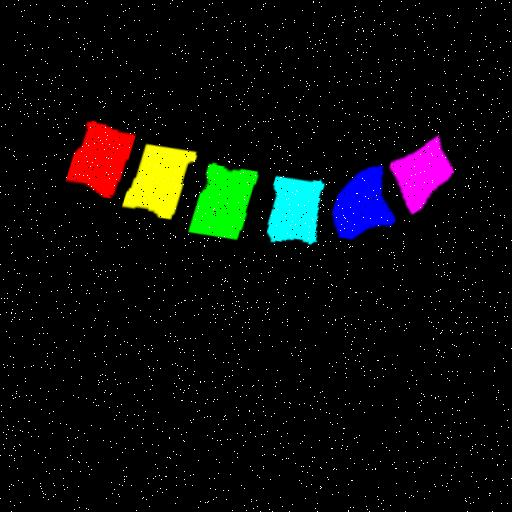L1: (70, 122, 139, 198)
L2: (126, 145, 200, 220)
L3: (193, 165, 262, 242)
L4: (272, 179, 330, 247)
L5: (338, 170, 400, 241)
S1: (395, 141, 458, 217)
